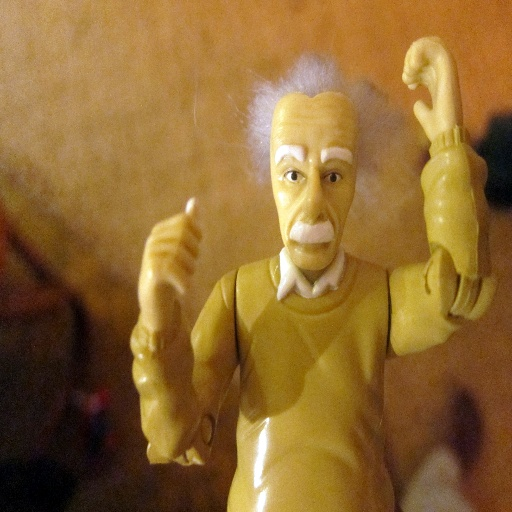hand: (137, 199, 202, 330), (401, 35, 464, 140)
